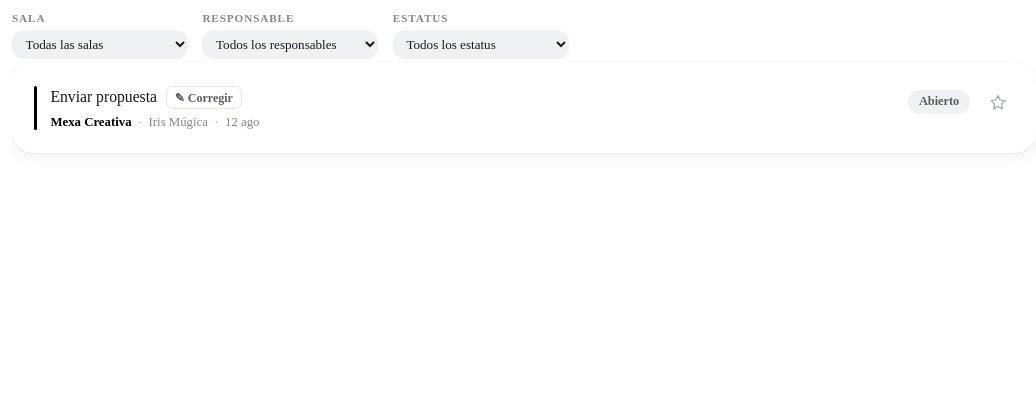
it: TablaAcuerdos › editar y eliminar desde la pestaña › admin (estatus, fecha y eliminar): el editor completo sí ofrece borrar
Click the button "✎ Corregir": (204, 98) [166,86,242,109]
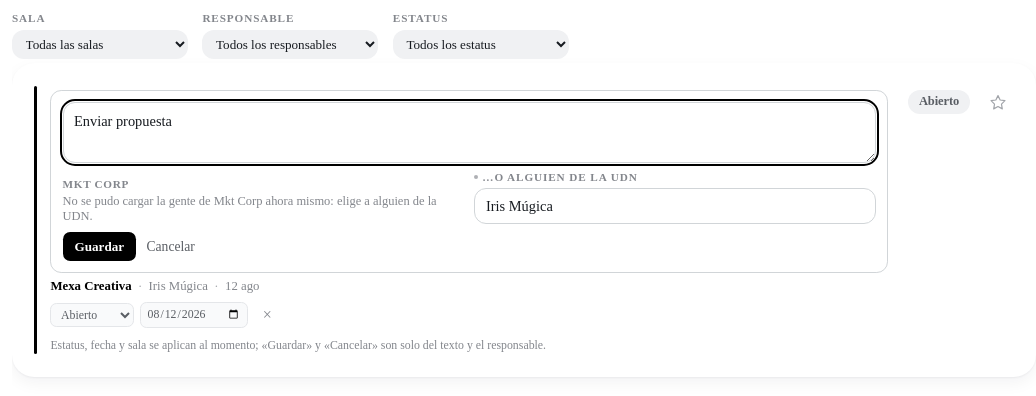
Now the button named "eliminar" is shown, box [254,302,280,328]
